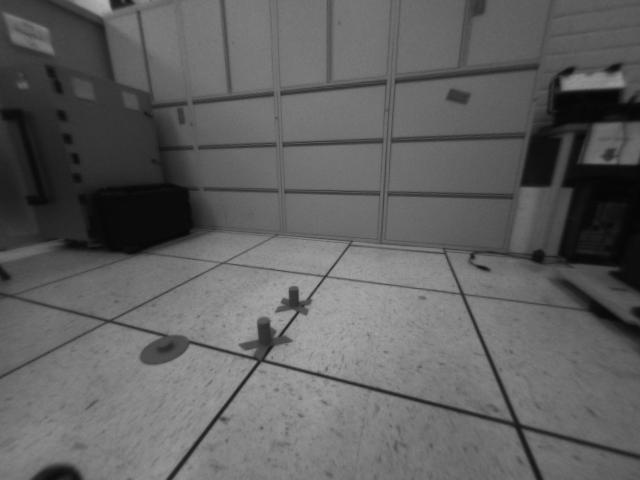X: (239, 317, 293, 362), (277, 285, 311, 313)
